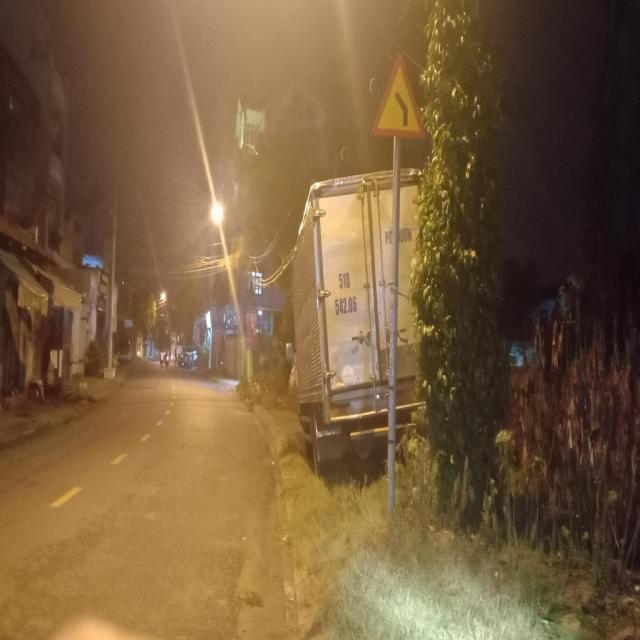201-cho-ngoat-nguy-hiem: (369, 54, 428, 140)
